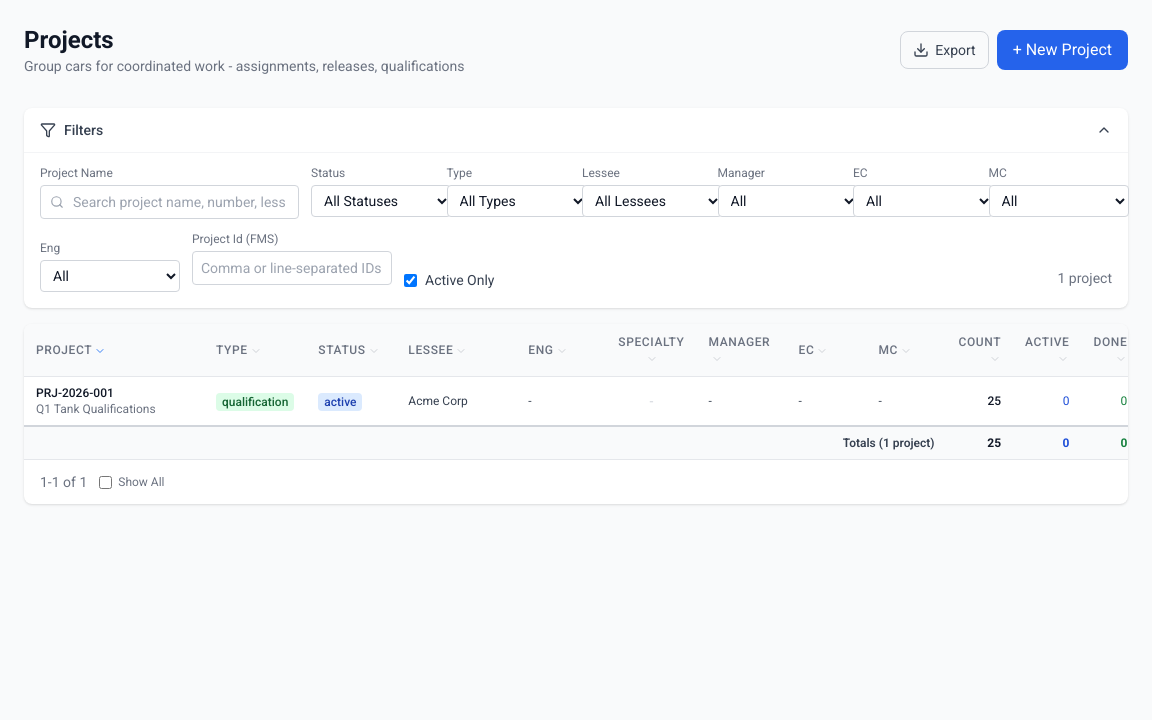
Scenario: ProjectsPage › opens project detail when row clicked
Click the text "PRJ-2026-001": coordinates (75, 393) [36,386,114,400]
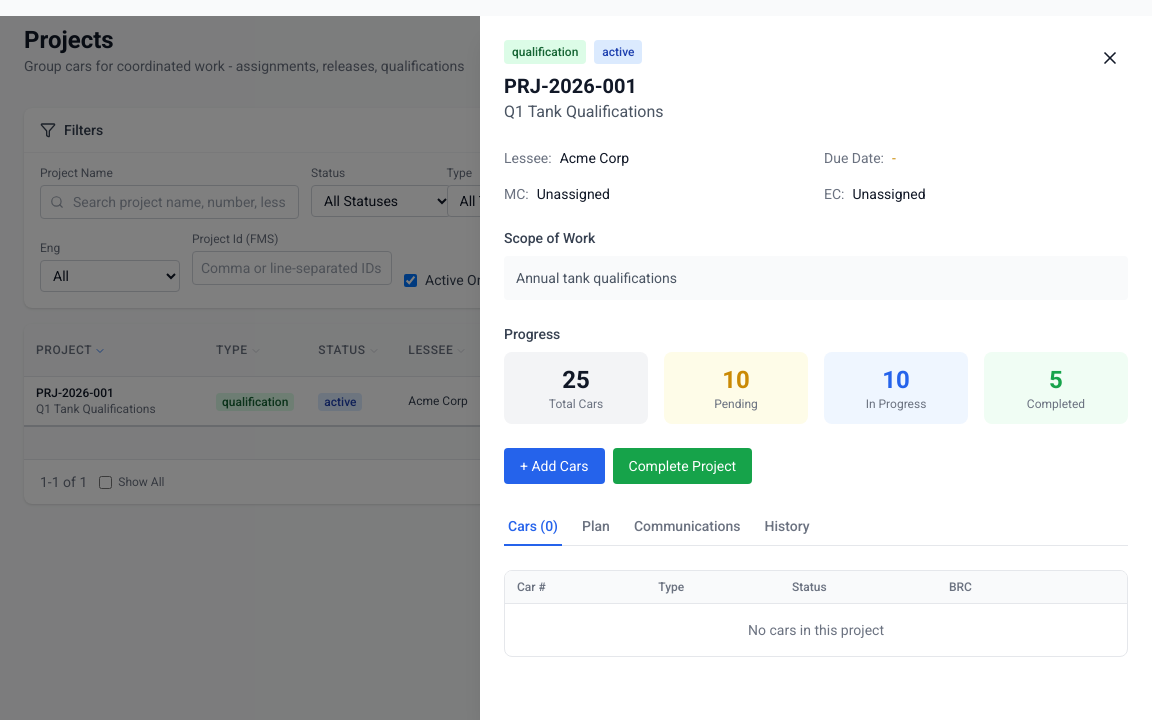
Now the heading "Scope of Work" is shown, box [504,230,595,246]
